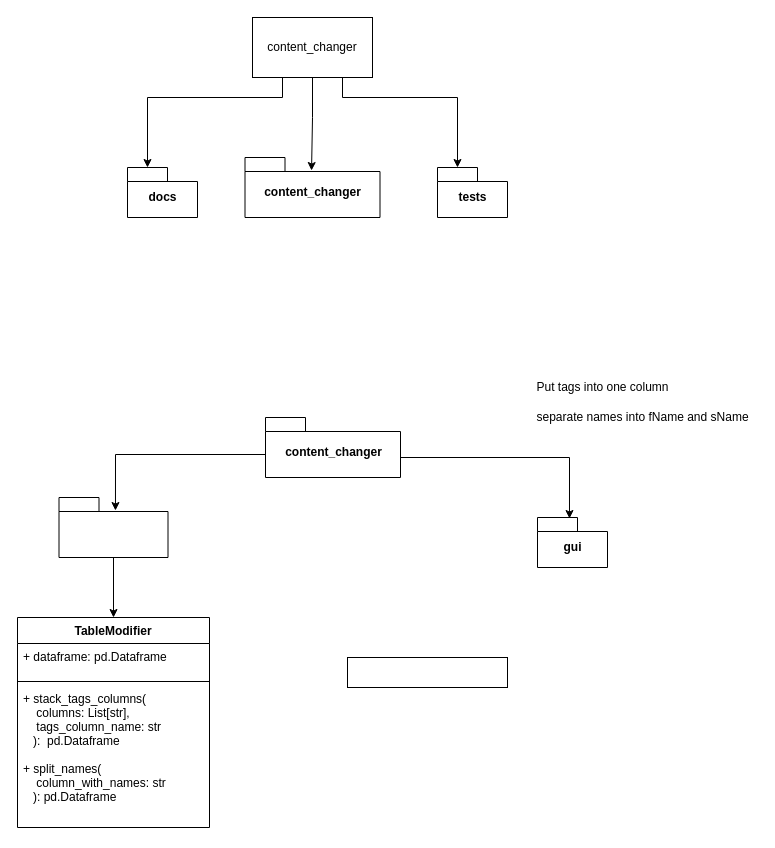
Image size: 775x848. Some labels were removed from this diagram. The shapes that lost their labels are listed below. From the top down, each one's centre as x and y in pixels, then its label:
At pixel 113 527: "table_modifier".
At pixel 427 672: "TkinterMain()".
